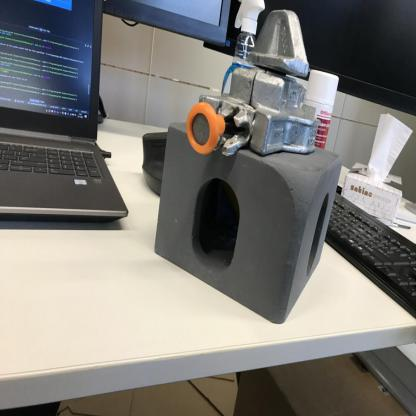CornerCasting: (158, 124, 340, 329)
Twistlock: (186, 8, 319, 163)
